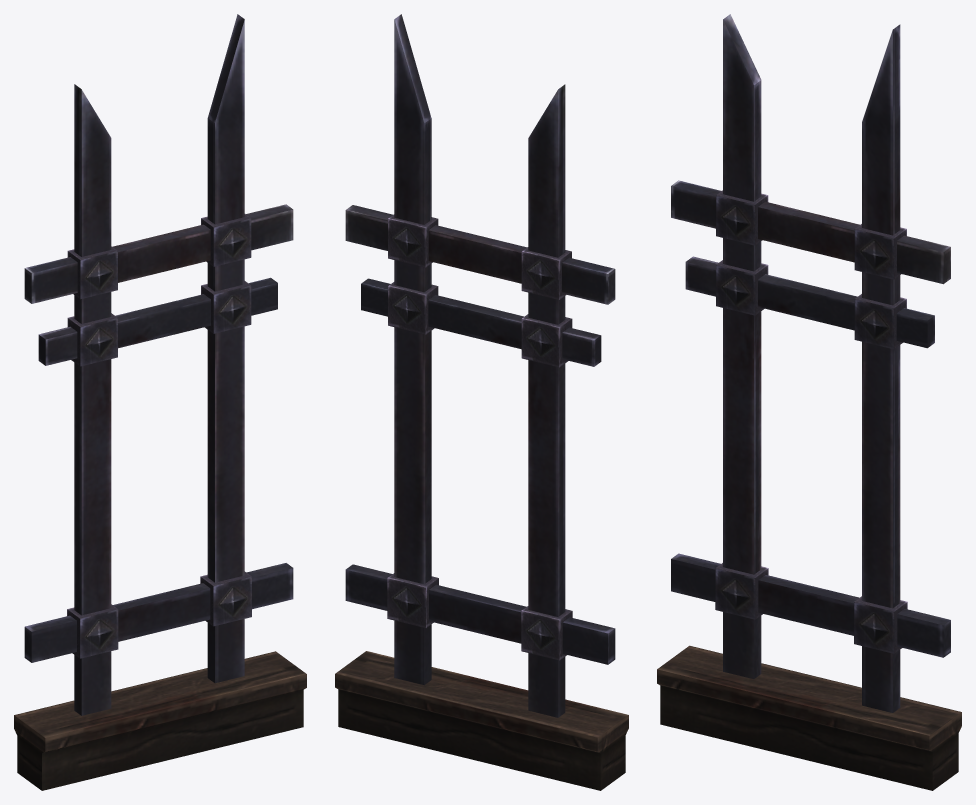
File: B_zhalan002.fbx
3 renders of one model, left to right at view 1: azimuth 30°, elevation 25°; view 2: azimuth 150°, elevation 25°; view 3: azimuth 330°, elevation 25°, orthographic. The views are drawn at different scales.
Visible parts, largest first — view 1: B_zhalan002; view 2: B_zhalan002; view 3: B_zhalan002.
Boxes of the visible parts, x1,y1,x2,y2 form: B_zhalan002: (14,14,306,790); B_zhalan002: (335,14,628,790); B_zhalan002: (657,14,961,790).
Size of the model in its own units: 100 by 261 by 20.69.
